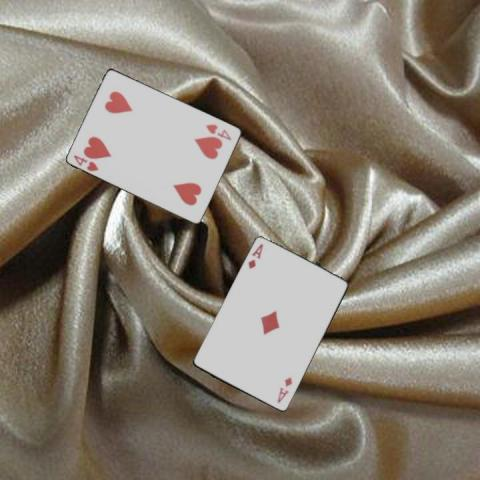4h: (203, 121, 233, 142), (71, 152, 100, 173)
Ad: (275, 374, 294, 405), (245, 241, 265, 270)
